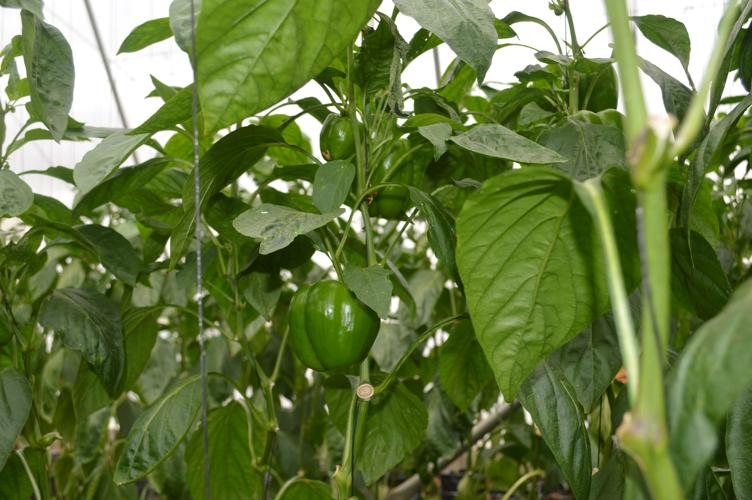BellPepper: (280, 282, 370, 367), (357, 137, 406, 217), (316, 110, 363, 158)
